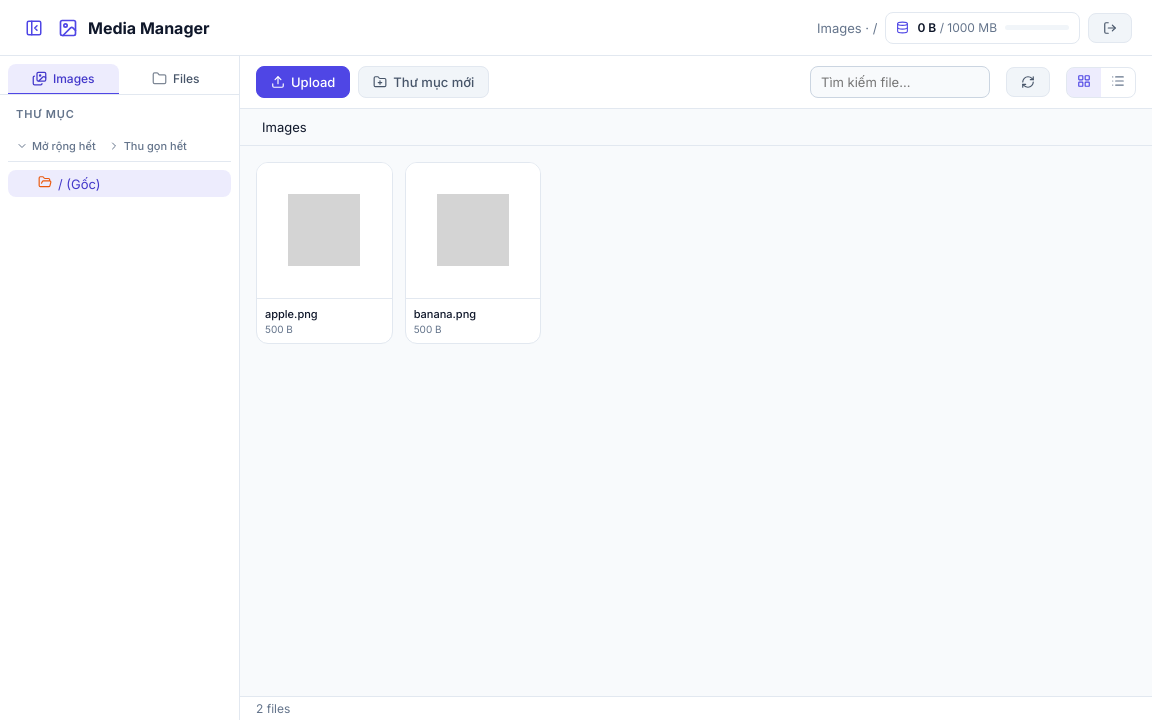
Test: FileManager Component › filters files via search input
Expected: the text "apple.png" is shown, [265,307,318,321]
Expected: the text "banana.png" is shown, [414,307,476,321]
Type "apple" into the field with placeholder "Tìm kiếm file...".
click(900, 82); type("apple")  # box [810,66,990,98]
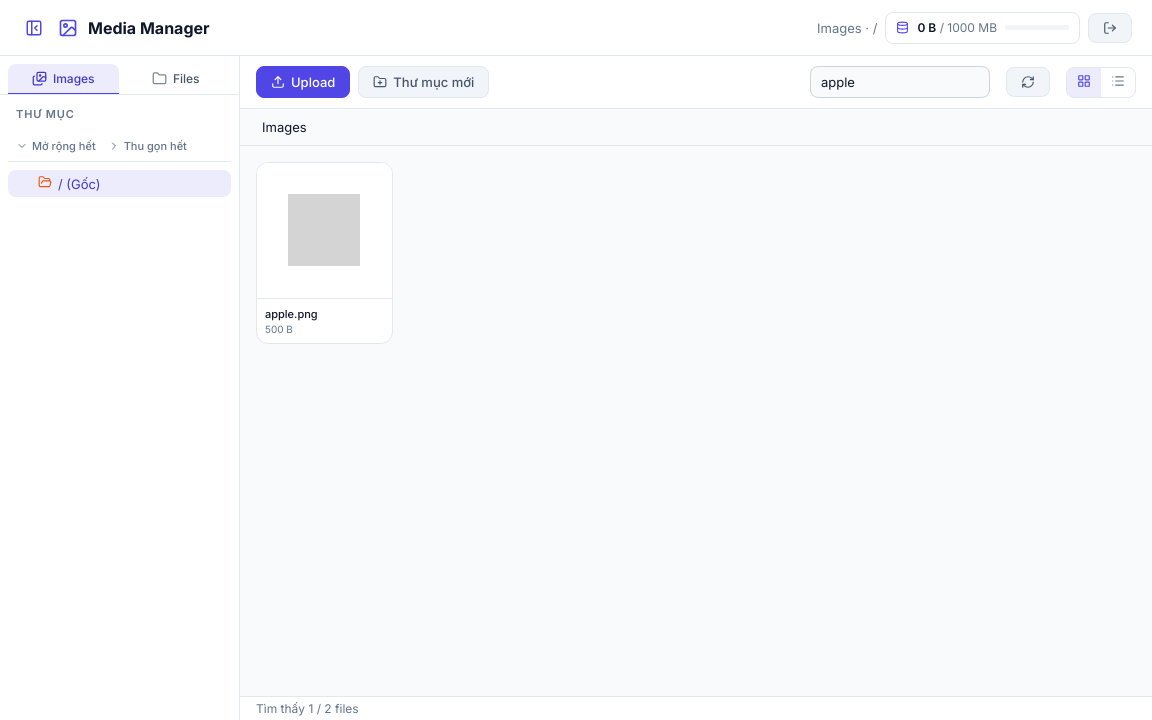
Expected: the text "apple.png" is shown, [265,307,318,321]
Now the text "banana.png" is gone
